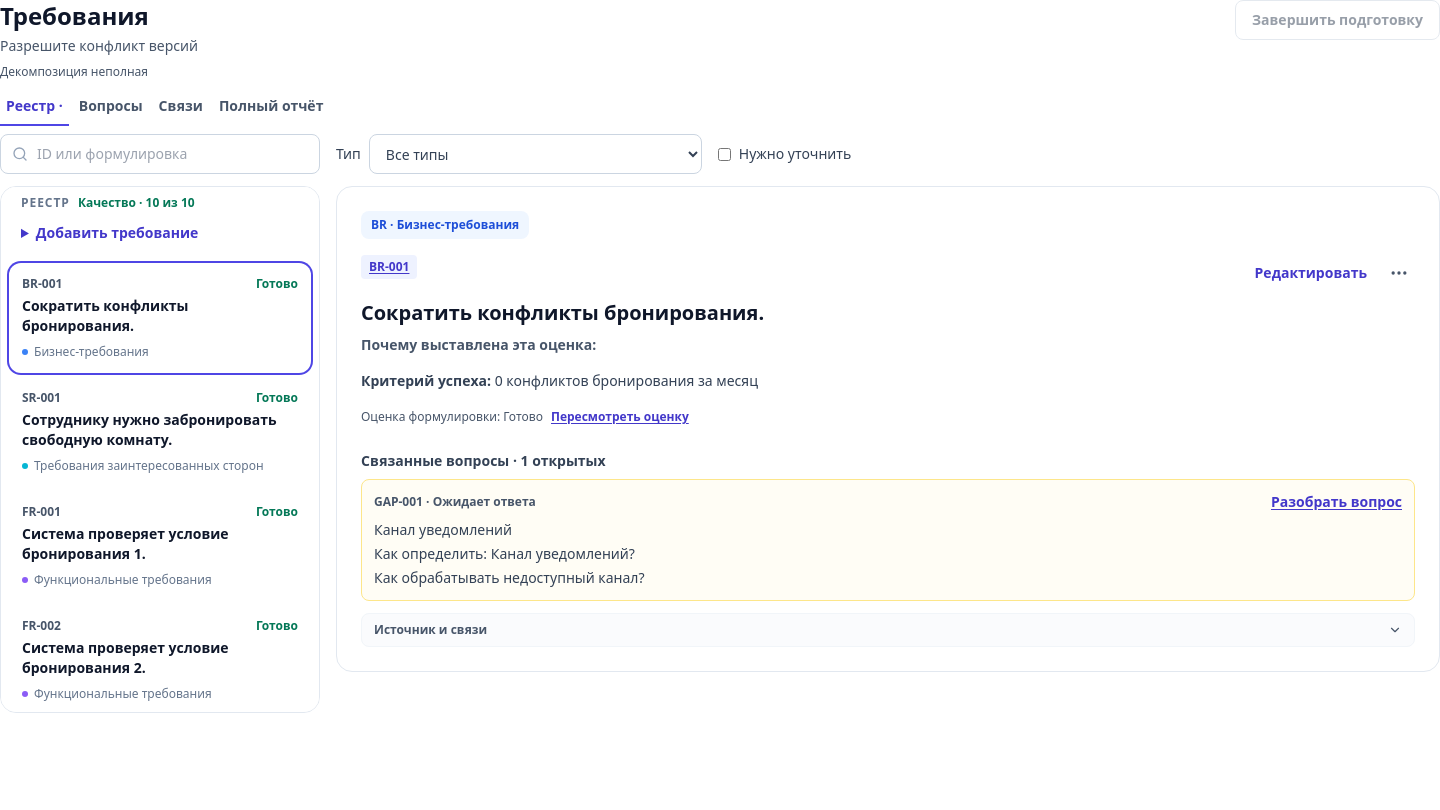
Test: save errors remain visible and comparing a conflict closes the question before opening recovery
The image size is (1440, 810).
Click the button "Разобрать вопрос" at coordinates (1336, 502), box left=1271, top=492, right=1402, bottom=512
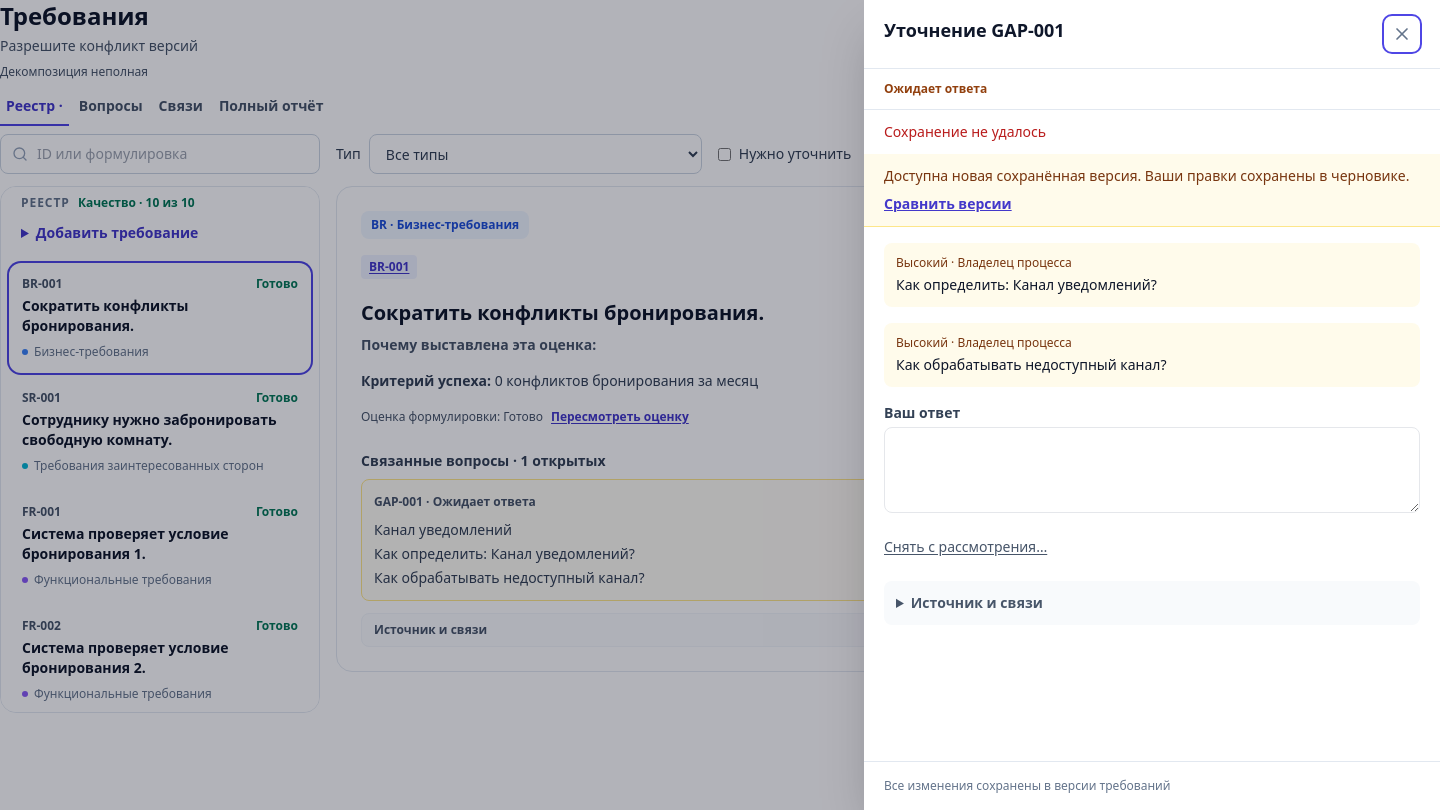
expect the message "Сохранение не удалось" is shown: met, box left=884, top=122, right=1046, bottom=141
Click the button "Сравнить версии" at coordinates (948, 204), box left=884, top=194, right=1012, bottom=214
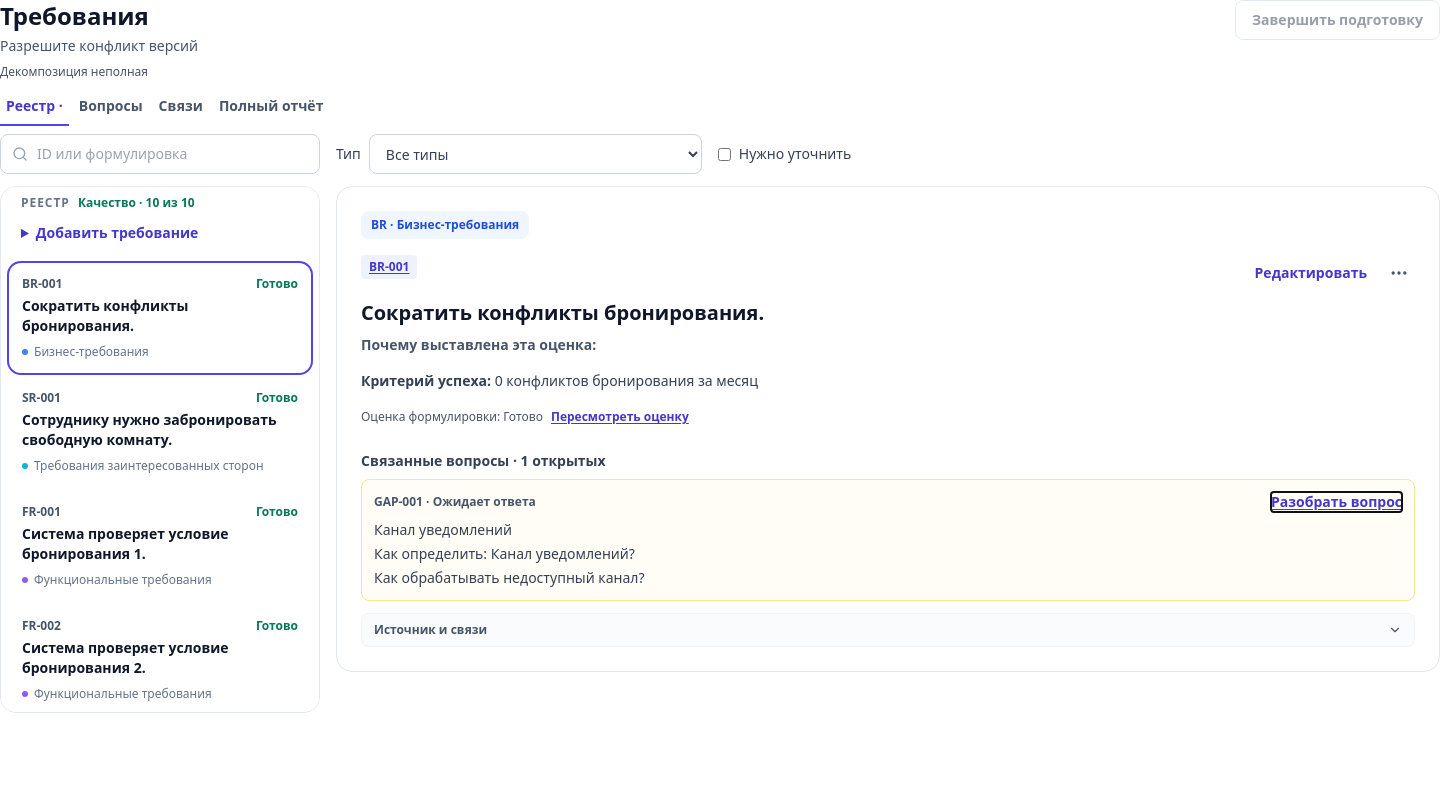
expect the dialog is gone: met
